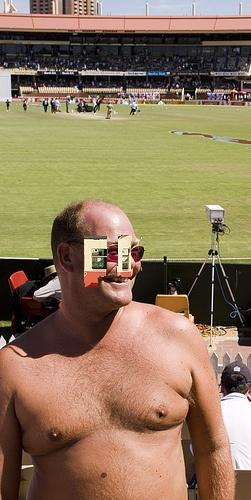tampered: (85, 236, 142, 288)
